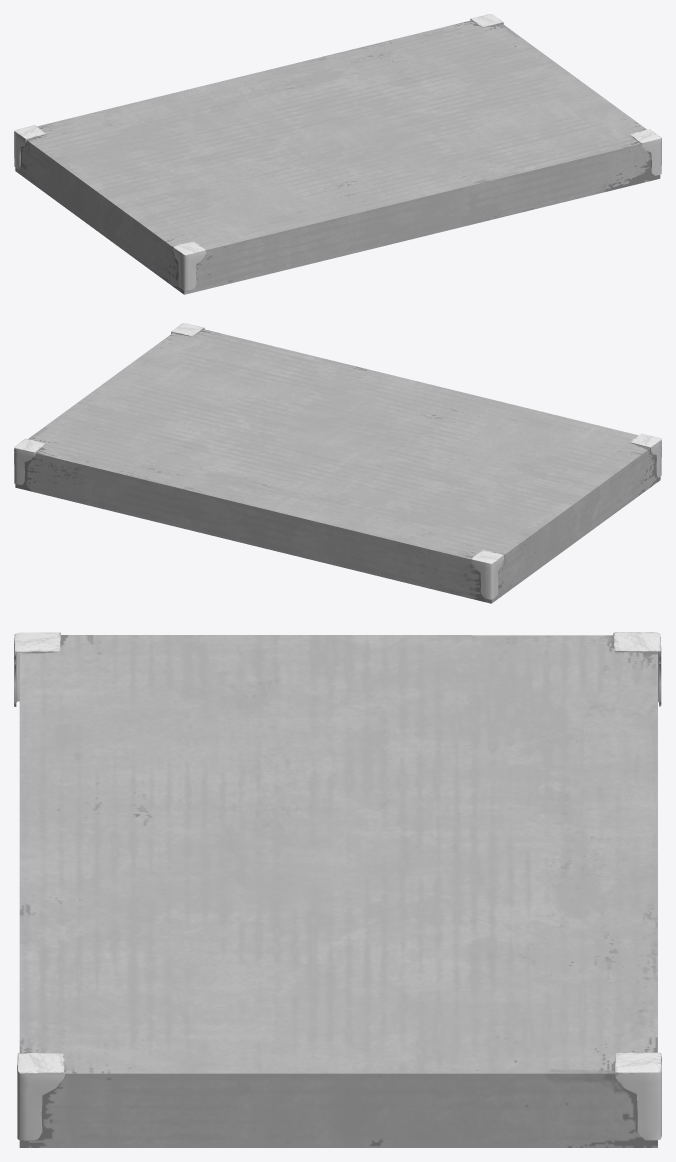
Rendered from SM_Box_A1_Cap.fbx.
The picture shows the model from 3 angles, top to bottom: view 1: azimuth 30°, elevation 25°; view 2: azimuth 150°, elevation 25°; view 3: azimuth 270°, elevation 25°; orthographic projection. The views are drawn at different scales.
Parts seen in each view (by area): view 1: SM_Box_A1_Cap; view 2: SM_Box_A1_Cap; view 3: SM_Box_A1_Cap.
Boxes of the visible parts, box(x1,y1,x2,y2) form: SM_Box_A1_Cap: box(14, 14, 661, 294); SM_Box_A1_Cap: box(14, 323, 661, 603); SM_Box_A1_Cap: box(14, 632, 661, 1147).
Size of the model in its own units: 42.96 by 26.66 by 3.49.
Materials: 1 (1 with a texture image).
